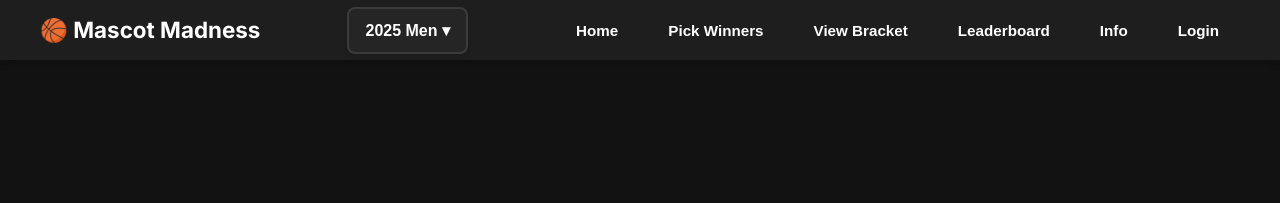
Test: Layout Component › shows year selector dropdown
// Open selector
Click the button with aria-label "Select tournament year and gender" at (408, 30), box [348,6,468,54]
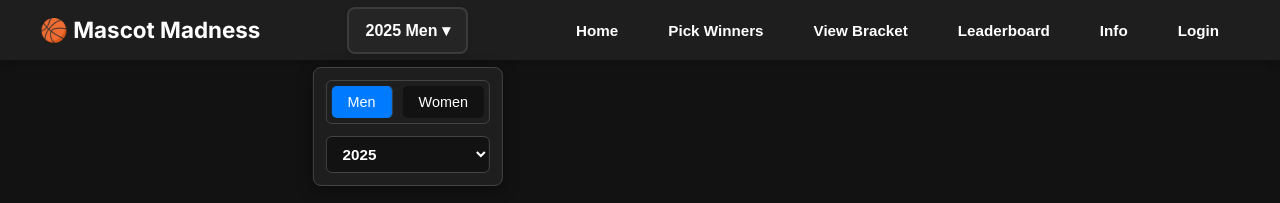
expect the button "Men" is shown: met, box [332,86,393,118]
expect the button "Women" is shown: met, box [403,86,484,118]
expect the dropdown named "Select tournament year" is shown: met, box [326,136,490,172]
